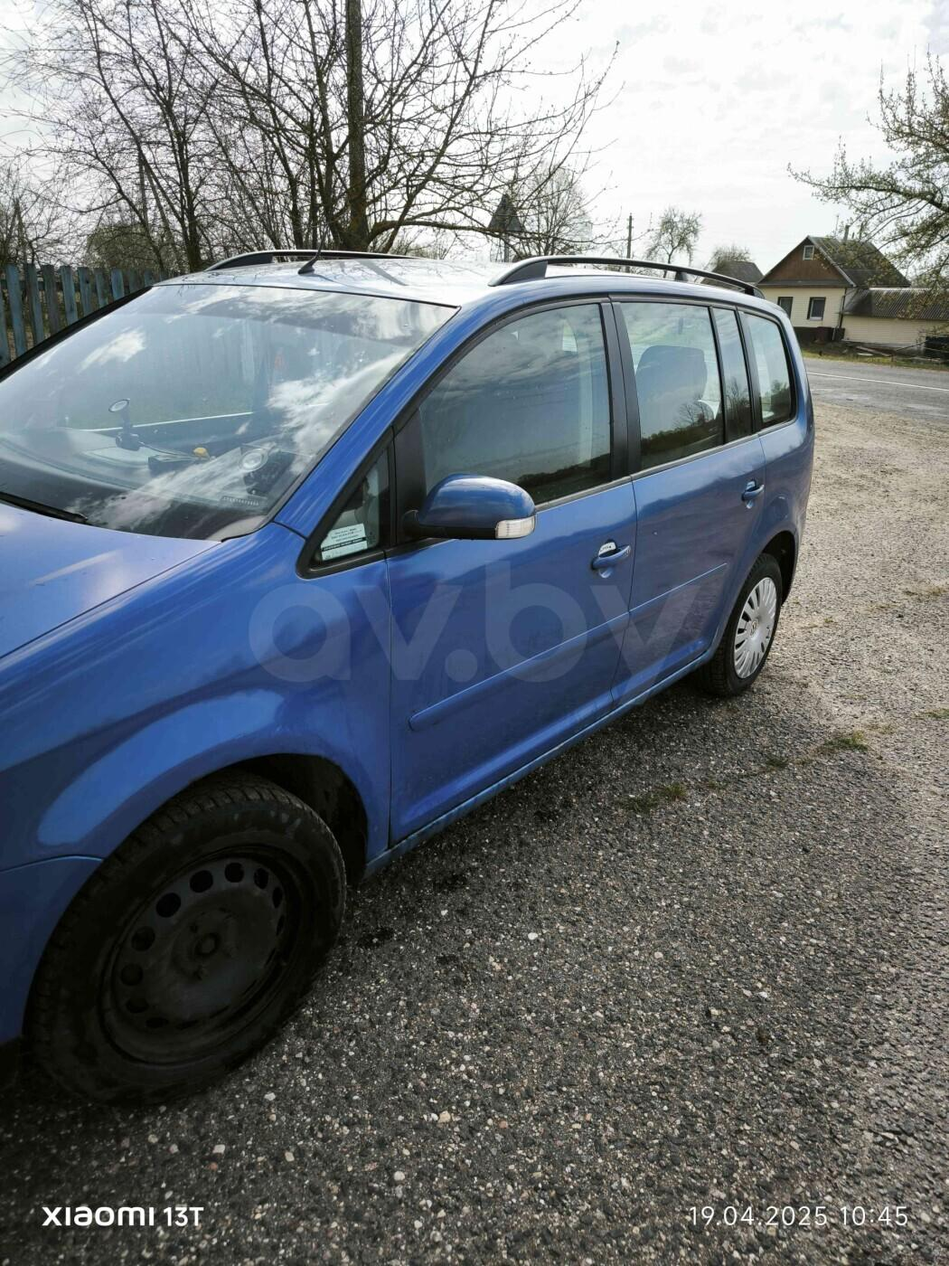Touran_2003-2006: (0, 241, 815, 1105)
